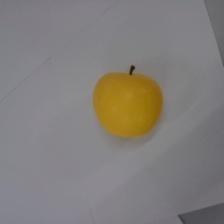yellow: (92, 63, 166, 141)
